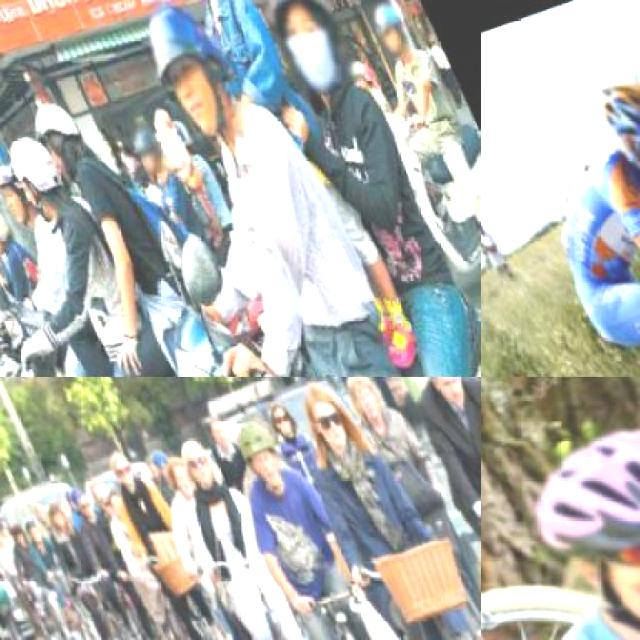With Helmet: (497, 386, 638, 639), (121, 0, 260, 155), (241, 0, 364, 98), (0, 113, 86, 250), (583, 59, 639, 204), (221, 402, 299, 498), (18, 84, 92, 170), (357, 0, 417, 60), (0, 157, 40, 231), (124, 119, 170, 176), (0, 196, 17, 258)
Without Helmet: (286, 377, 366, 465), (166, 422, 228, 500), (335, 377, 397, 434), (94, 439, 146, 498), (404, 377, 478, 414), (258, 387, 302, 442), (40, 496, 71, 536)
